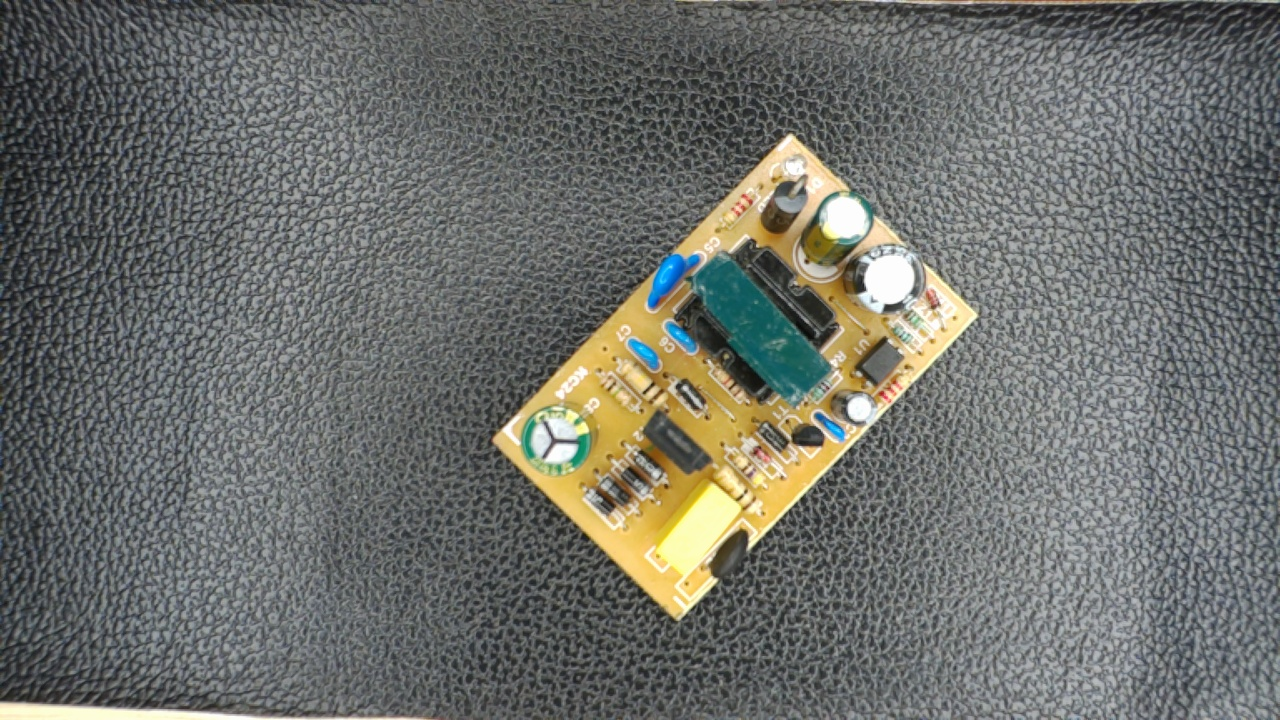fuse: (702, 528, 753, 582)
hv_capacitor: (512, 405, 599, 476)
mov: (642, 248, 704, 312)
optocoupler: (849, 336, 908, 386)
